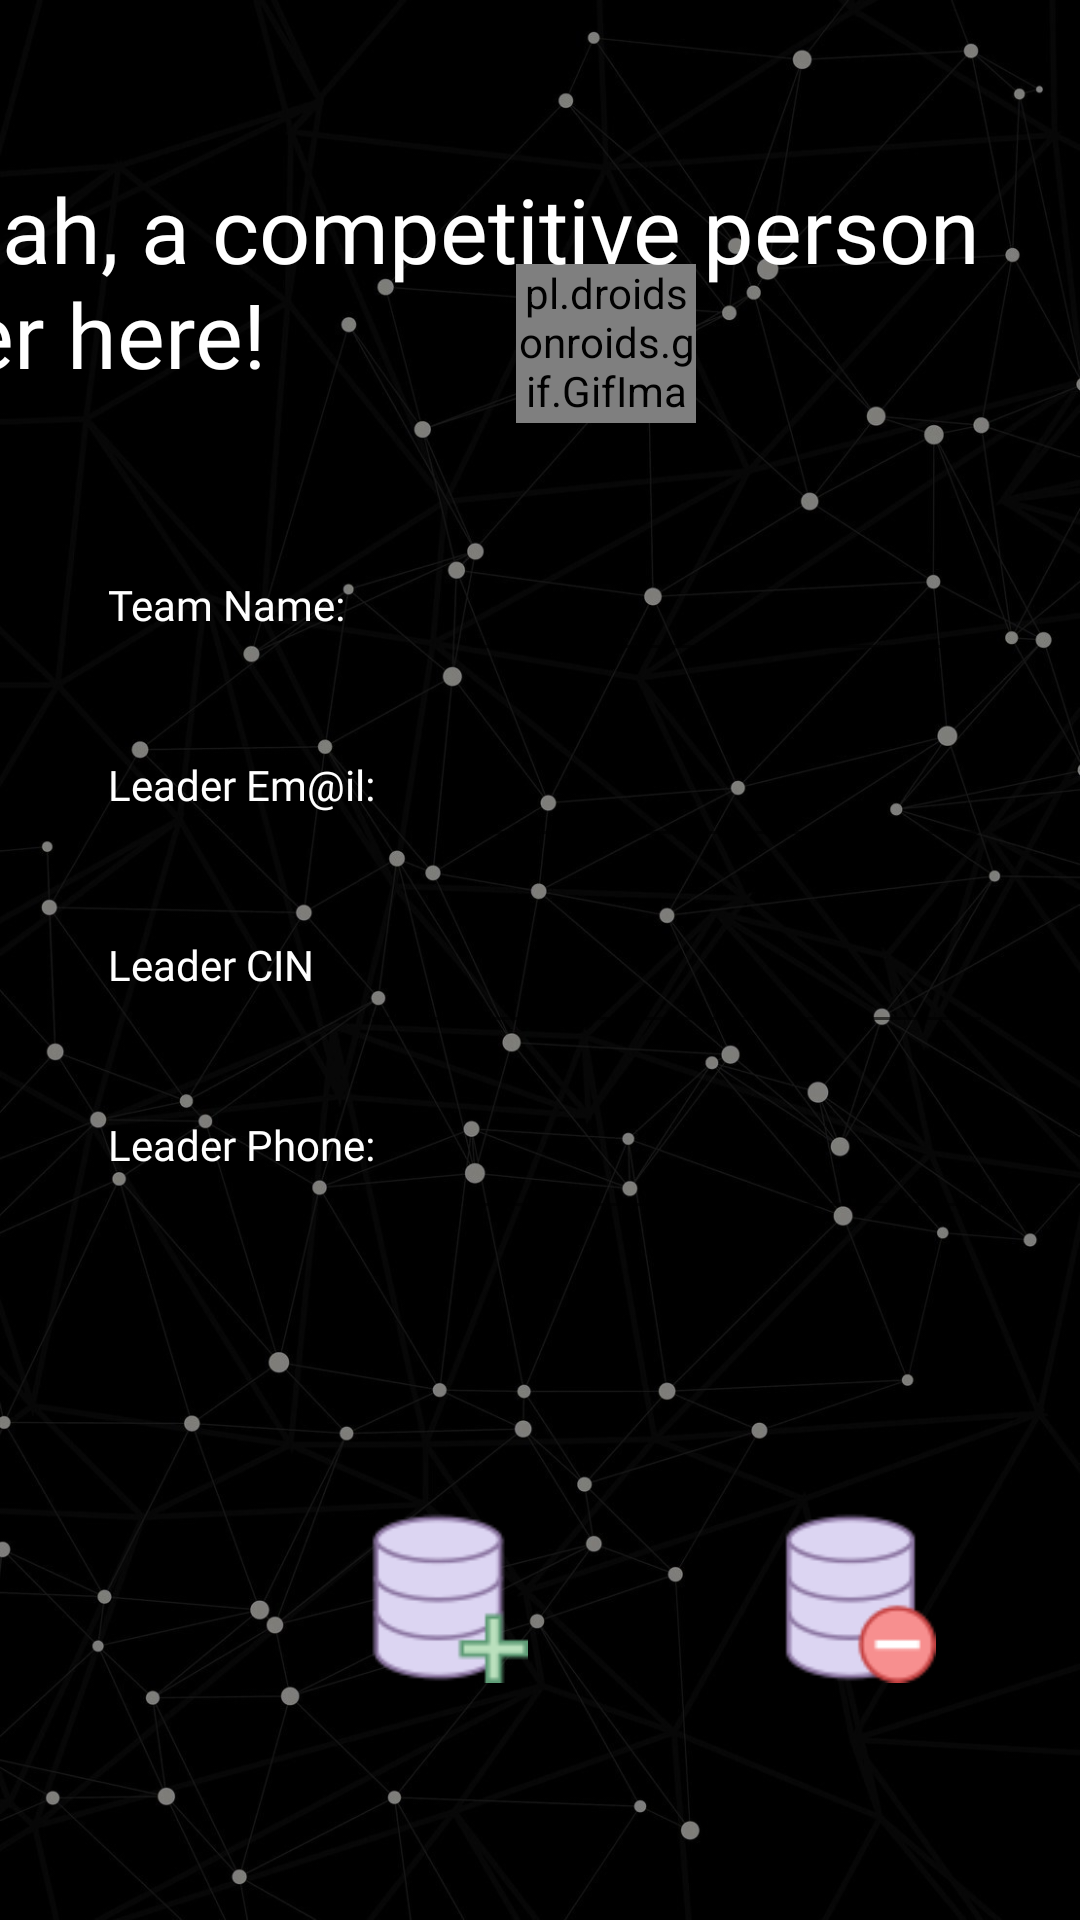

Screen size 1080x1920. Icon name, then its center in pixels as (x=x, y=y):
delete: (x=860, y=1599)
